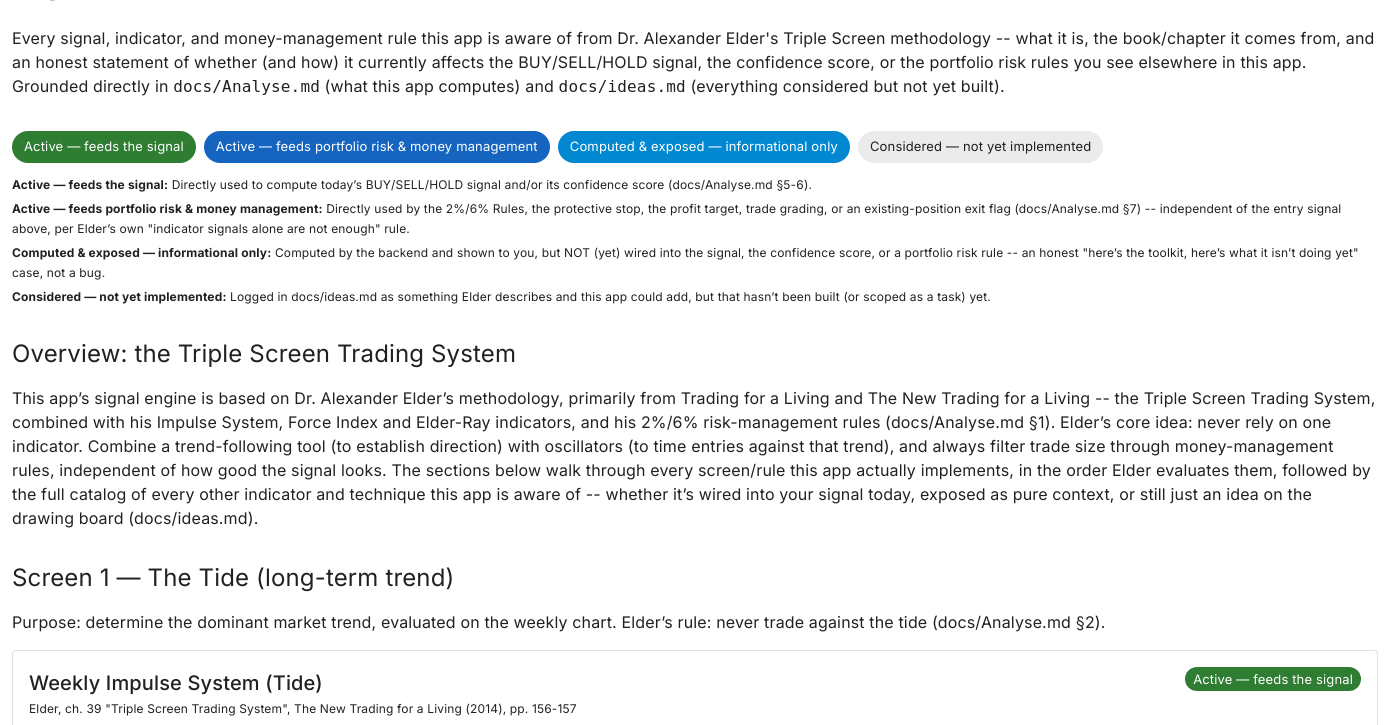
Test: MethodologyPage › re-selecting a deselected status chip brings its section back
Click the button "Active — feeds the signal". click: click(104, 147)
box: x1=12 y1=131 x2=196 y2=163
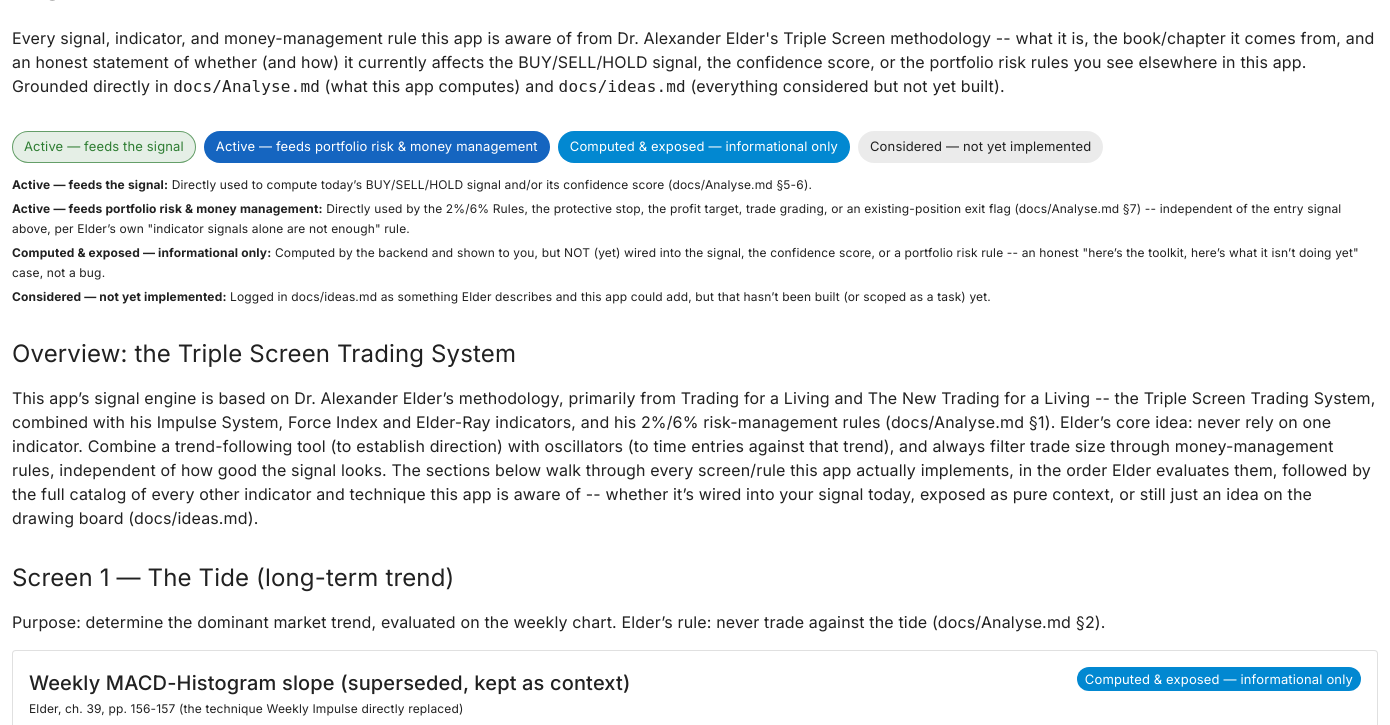
Expected: the heading "Screen 3 — The Trigger" is not shown
Click the button "Active — feeds the signal". click: click(104, 147)
box: x1=12 y1=131 x2=196 y2=163
(page scrolled)
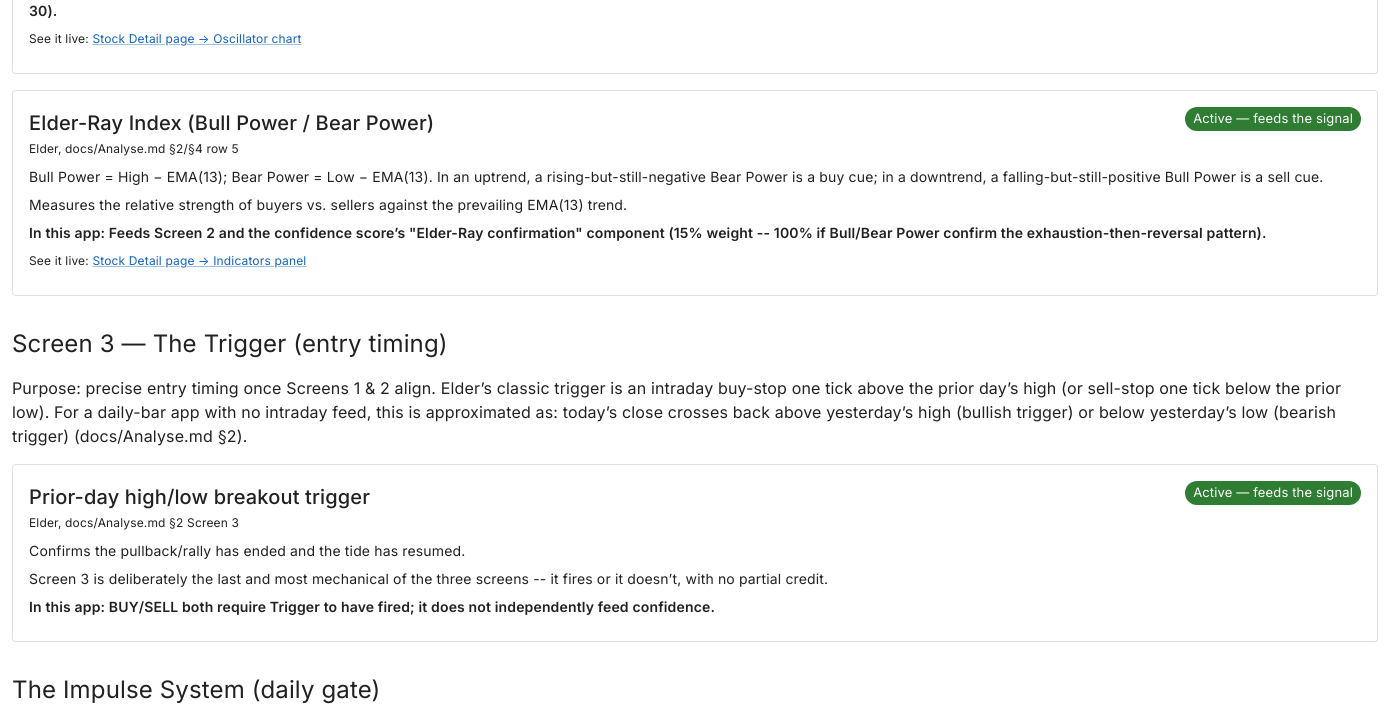
Expected: the heading "Screen 3 — The Trigger (entry timing)" is shown, x1=12 y1=329 x2=448 y2=358
